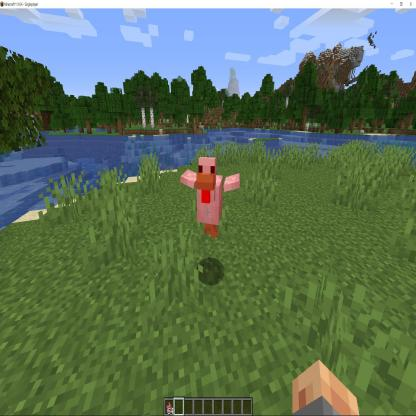minecraft-pigs: (180, 155, 242, 241)
